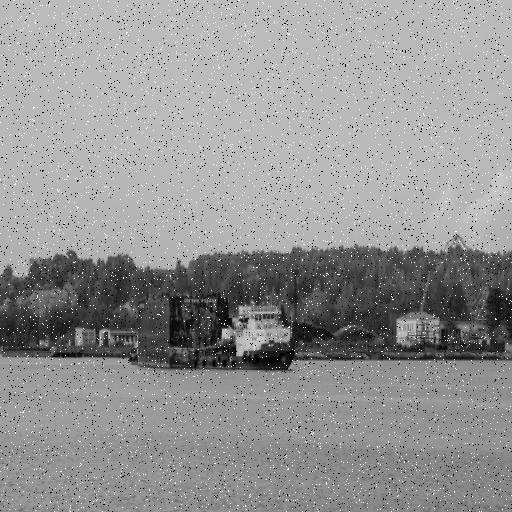tugboat: (194, 296, 299, 379)
